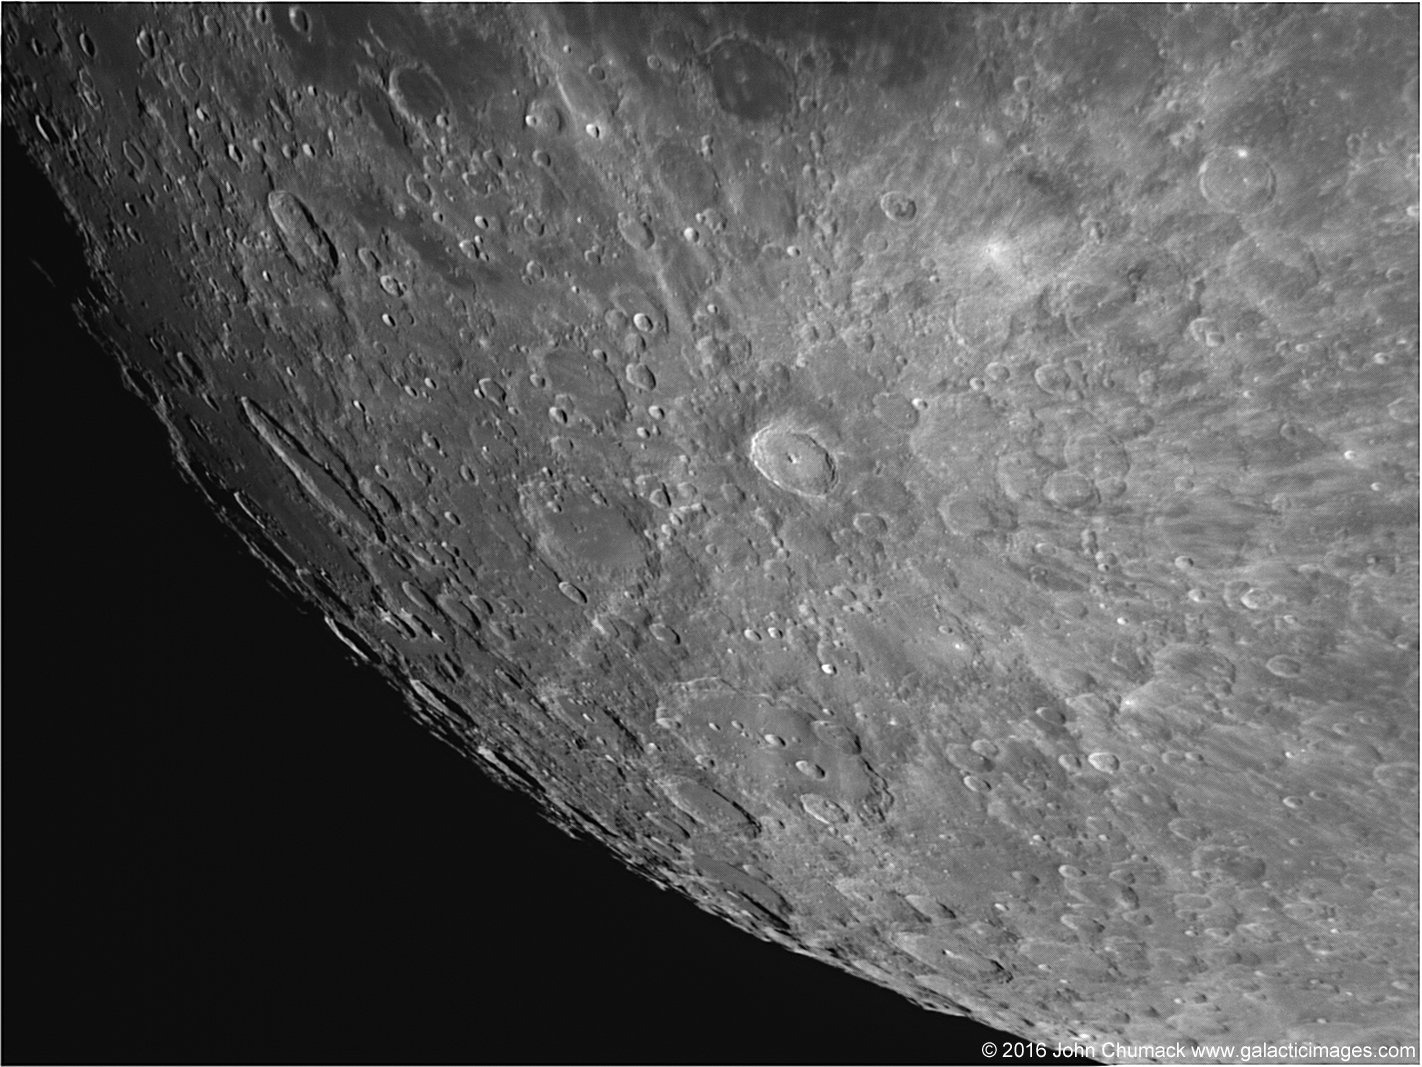crater: (230, 379, 419, 563), (676, 19, 855, 147), (1171, 115, 1333, 253), (708, 398, 867, 538), (619, 118, 758, 228), (924, 467, 1030, 579), (867, 365, 944, 454), (853, 169, 942, 231), (1253, 635, 1325, 703), (947, 217, 1029, 276), (104, 127, 157, 177), (780, 751, 851, 788), (277, 3, 344, 41), (1082, 740, 1127, 794), (1332, 434, 1388, 476), (383, 195, 421, 228)
